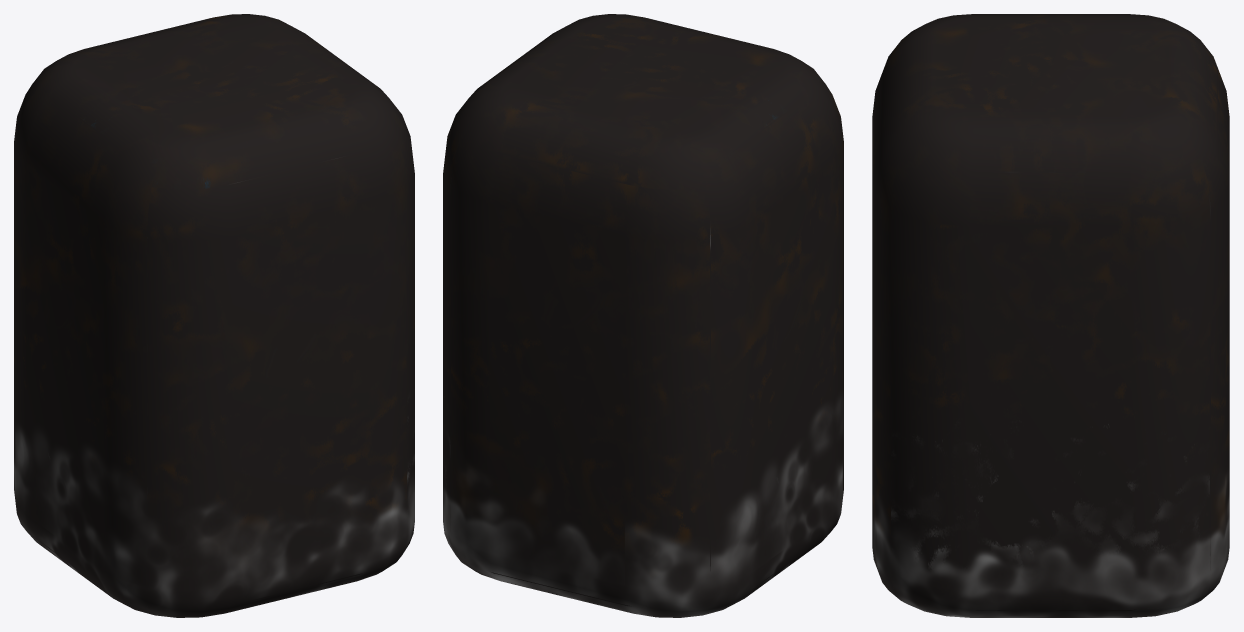
The model's file is Background.dae.
3 renders of one model, left to right at view 1: azimuth 30°, elevation 25°; view 2: azimuth 150°, elevation 25°; view 3: azimuth 270°, elevation 25°, orthographic. The views are drawn at different scales.
Visible parts, largest first — view 1: Cube; view 2: Cube; view 3: Cube.
Part boxes in pixels (box(x1,y1,x2,y2)): Cube: box(14, 14, 414, 617); Cube: box(443, 14, 843, 617); Cube: box(872, 14, 1229, 617).
Size of the model in its own units: 27.88 by 41.49 by 27.72.
